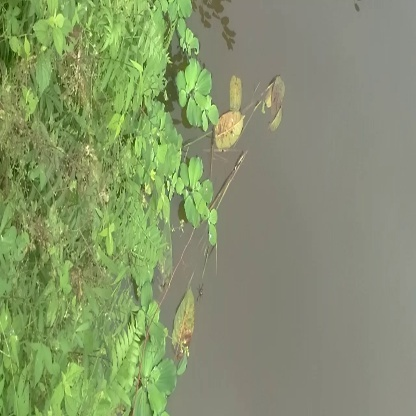leaf: (170, 287, 203, 358), (212, 102, 255, 156)
